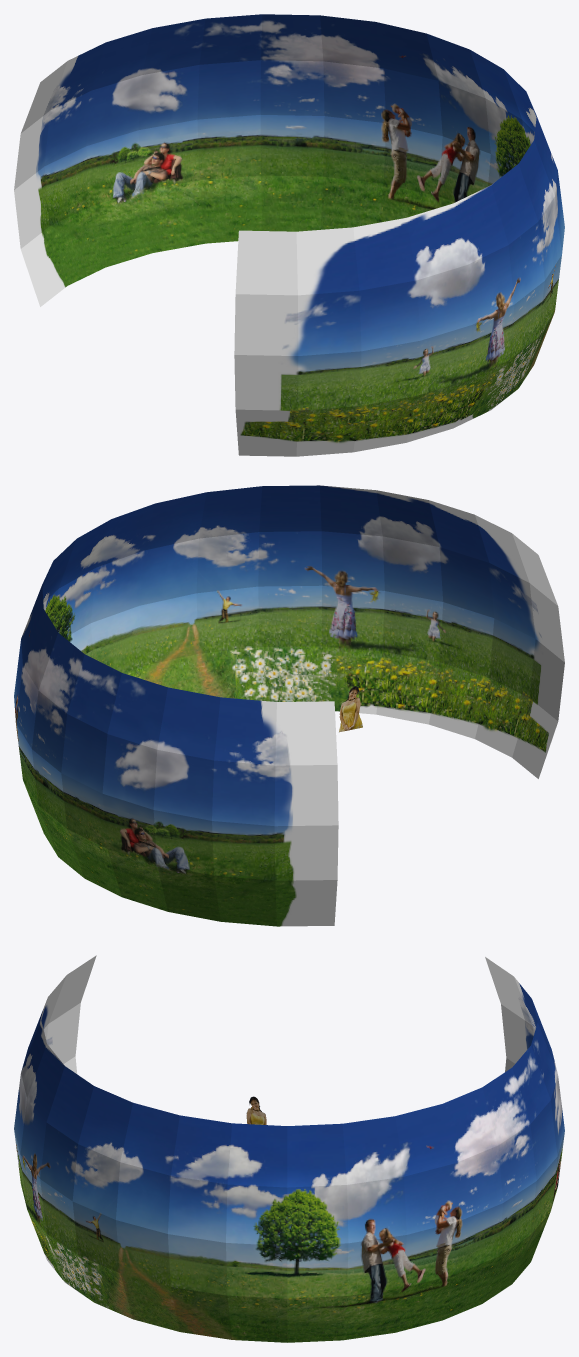
Rendered from Panorama_1_with_FG_v03.dae.
3 renders of one model, top to bottom at view 1: azimuth 30°, elevation 25°; view 2: azimuth 150°, elevation 25°; view 3: azimuth 270°, elevation 25°, orthographic. The views are drawn at different scales.
Visible parts, largest first — view 1: ID23; view 2: ID23, ID14; view 3: ID23.
Boxes of the visible parts, x1,y1,x2,y2 form: ID23: (14, 14, 564, 456); ID23: (14, 485, 564, 926); ID14: (339, 686, 362, 732); ID23: (14, 955, 564, 1342).
Bounding box in the file's own units: 4191 × 5142 × 2231.
Materials: 2 (2 with a texture image).
